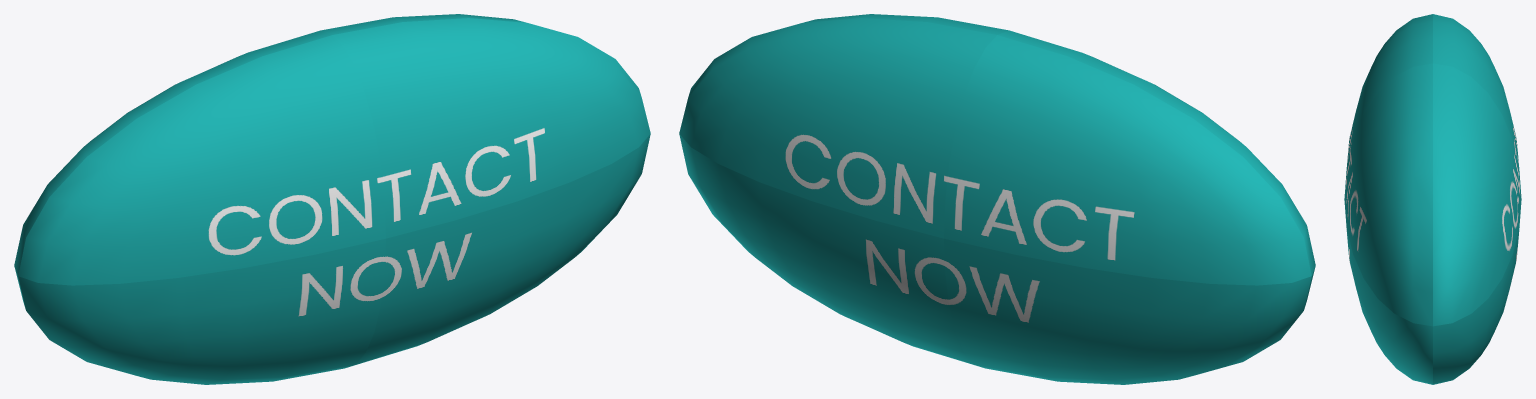
Rendered from contactModel.glb.
3 renders of one model, left to right at view 1: azimuth 30°, elevation 25°; view 2: azimuth 150°, elevation 25°; view 3: azimuth 270°, elevation 25°, orthographic. The views are drawn at different scales.
Visible parts, largest first — view 1: Cube; view 2: Cube; view 3: Cube.
Part boxes in pixels (bbox=[...]): Cube: bbox=[14, 14, 650, 384]; Cube: bbox=[679, 14, 1315, 384]; Cube: bbox=[1344, 14, 1521, 384].
Bounding box in the file's own units: 4 × 2 × 1.18.
Materials: 1 (1 with a texture image).
